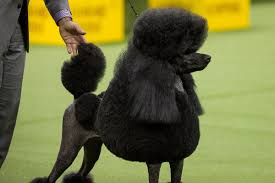Poodle: (61, 7, 228, 178)
